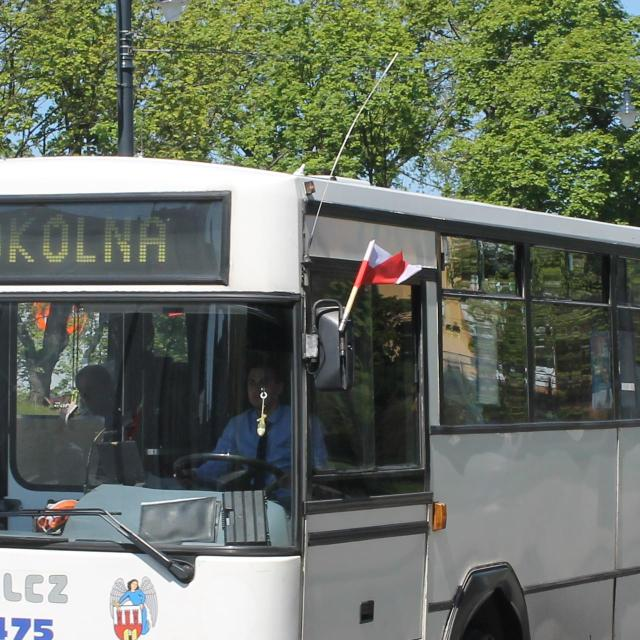Bus: (0, 156, 640, 640)
